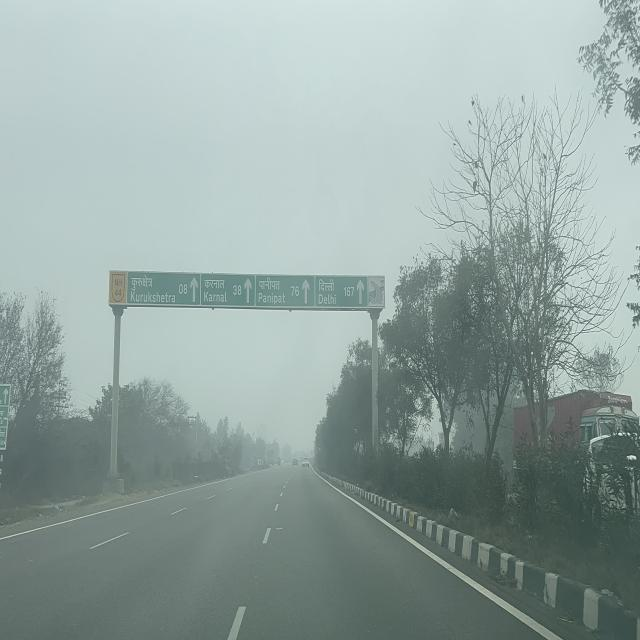GENERAL: (107, 270, 386, 312), (0, 384, 12, 452)
